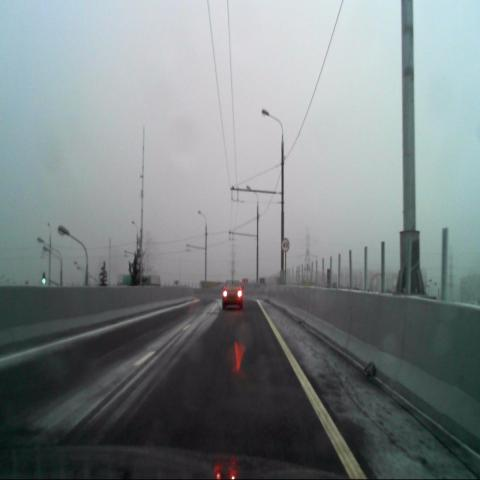3_24: (281, 237, 289, 252)
